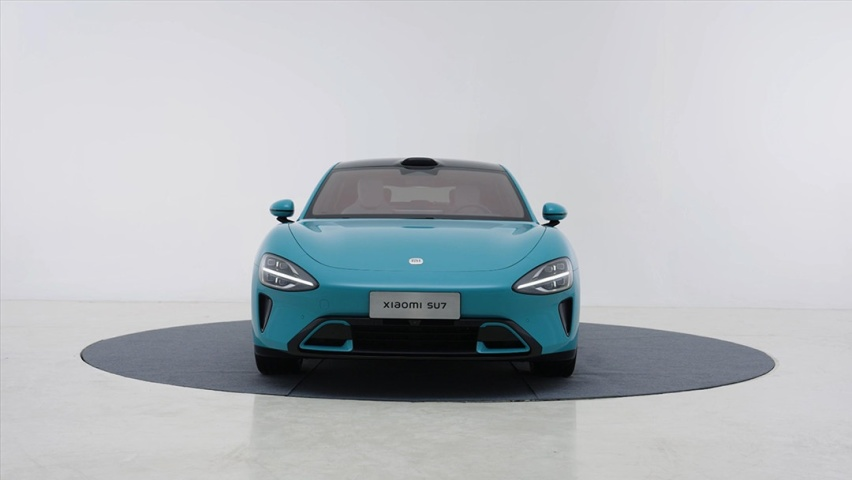su7: (242, 155, 587, 387)
